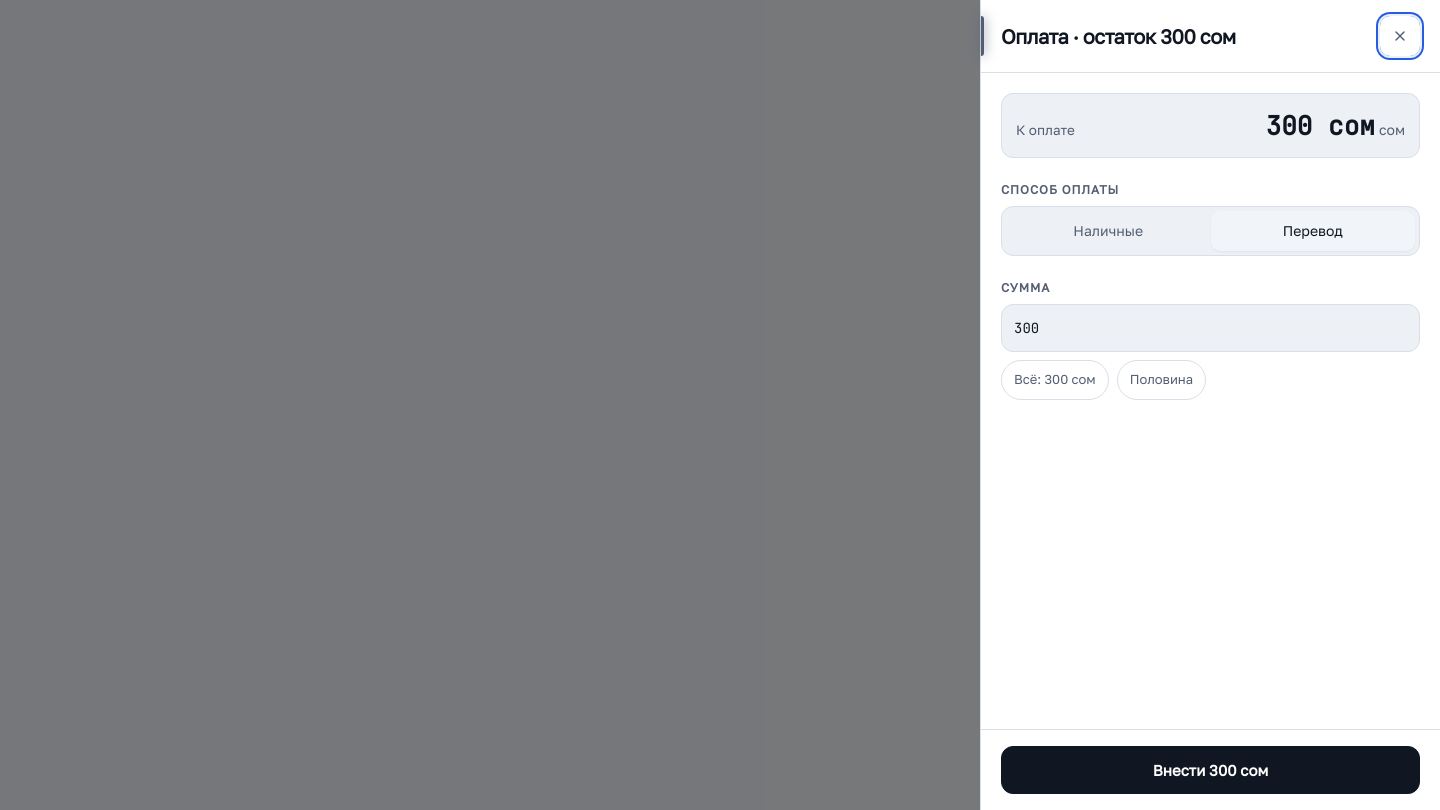
PaymentDialog amounts and chips › disables the button when the amount rounds to zero
The width and height of the screenshot is (1440, 810).
Replace the text in the number field labelled "Сумма" with "0.3". click: (1210, 328)
box: [1001,304,1420,352]
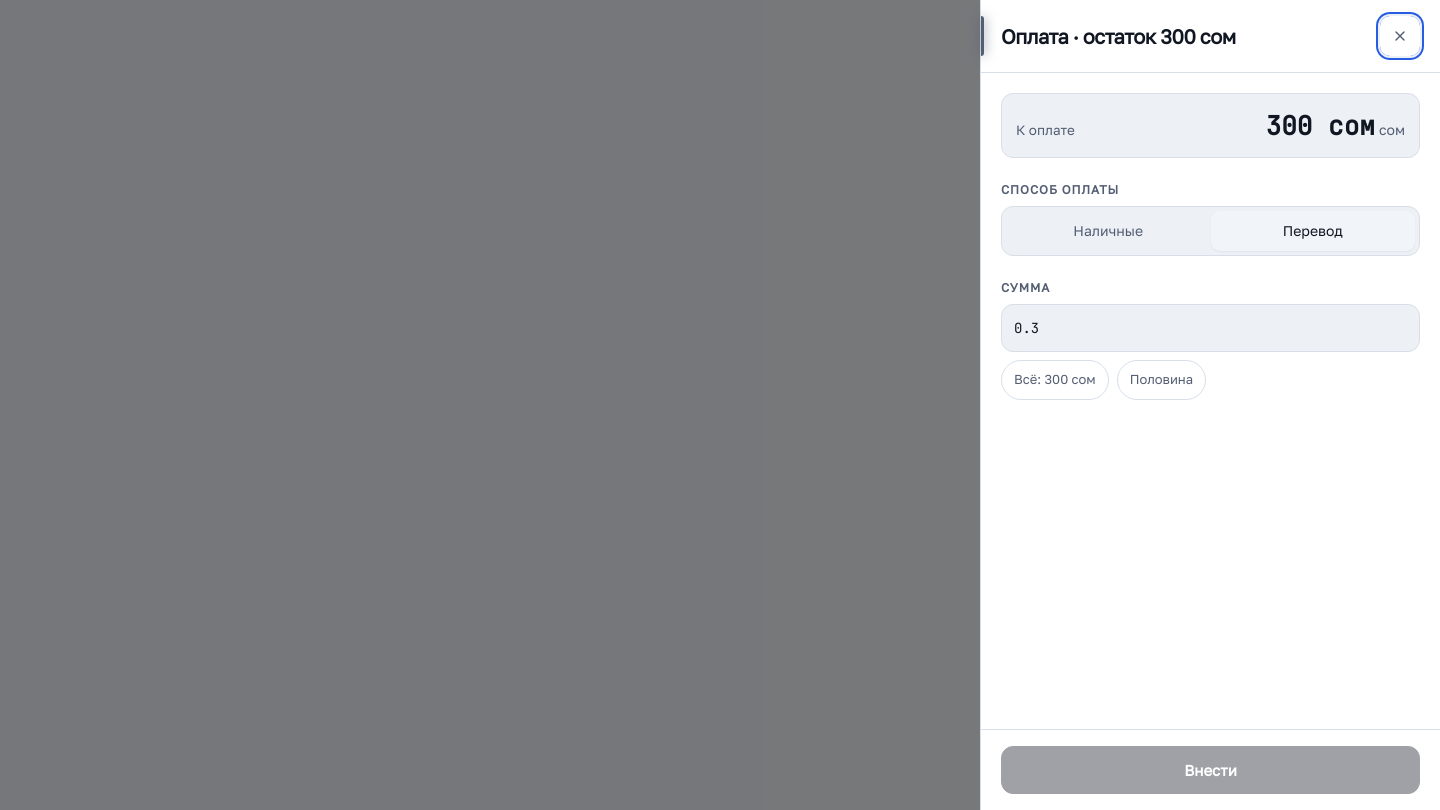
Expected: the button "Внести" is disabled, [1001,746,1420,794]
